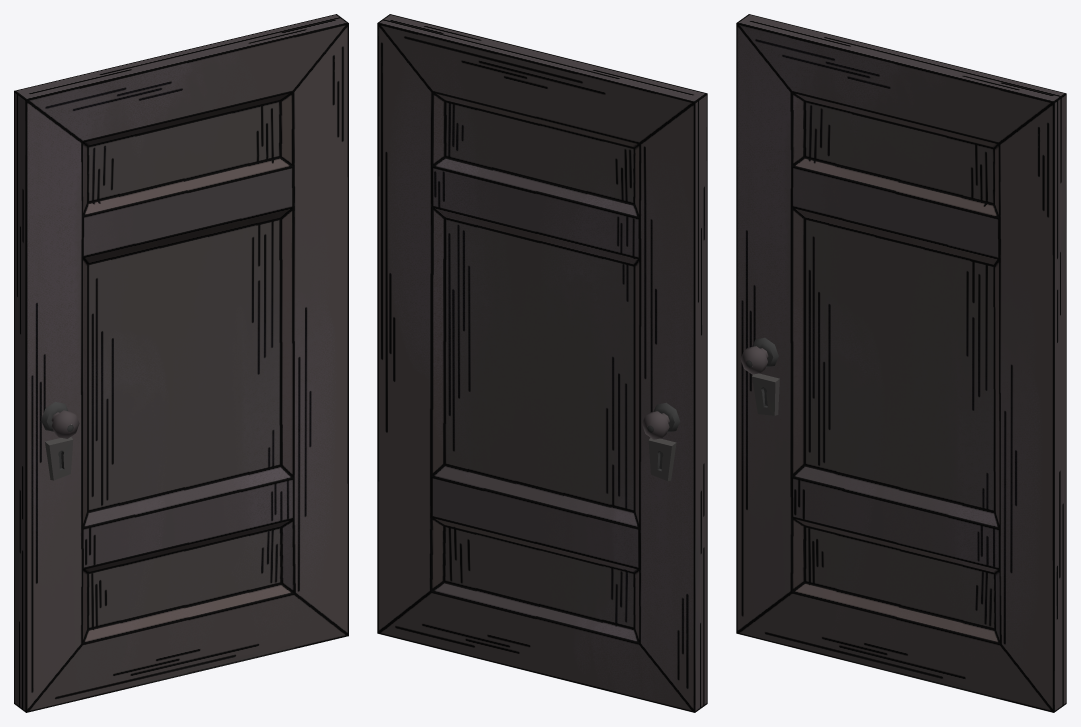
File: door with lock_alt.fbx
3 views of the same model, side by side, from view 1: azimuth 30°, elevation 25°; view 2: azimuth 150°, elevation 25°; view 3: azimuth 330°, elevation 25° (orthographic).
Visible parts, largest first — view 1: door with lock, door with lock.002; view 2: door with lock, door with lock.002; view 3: door with lock, door with lock.002.
Part boxes in pixels (box(x1,y1,x2,y2)): door with lock: box(14, 14, 348, 712); door with lock.002: box(45, 437, 73, 480); door with lock: box(377, 14, 707, 712); door with lock.002: box(648, 437, 676, 481); door with lock: box(736, 14, 1066, 712); door with lock.002: box(752, 373, 779, 415).
Bounding box in the file's own units: 1.68 × 3.07 × 0.3947.
